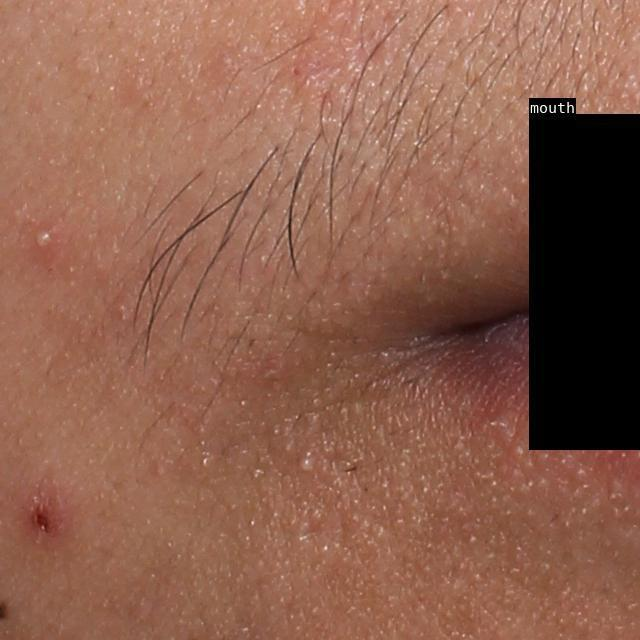papule: (23, 482, 67, 539)
pustule: (33, 226, 56, 249), (296, 451, 316, 476)
